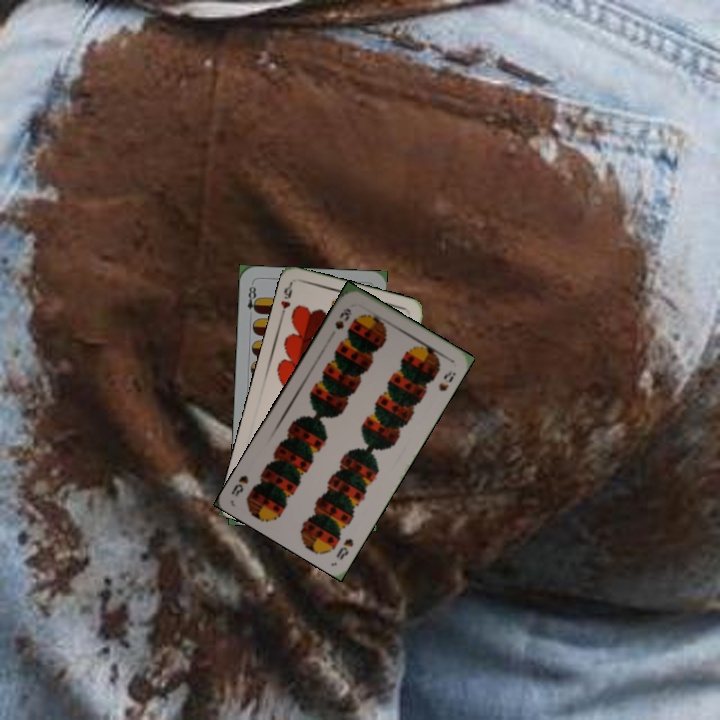E8: (243, 280, 261, 316)
H9: (277, 280, 295, 320)
S8: (332, 534, 356, 562), (331, 304, 354, 332)
